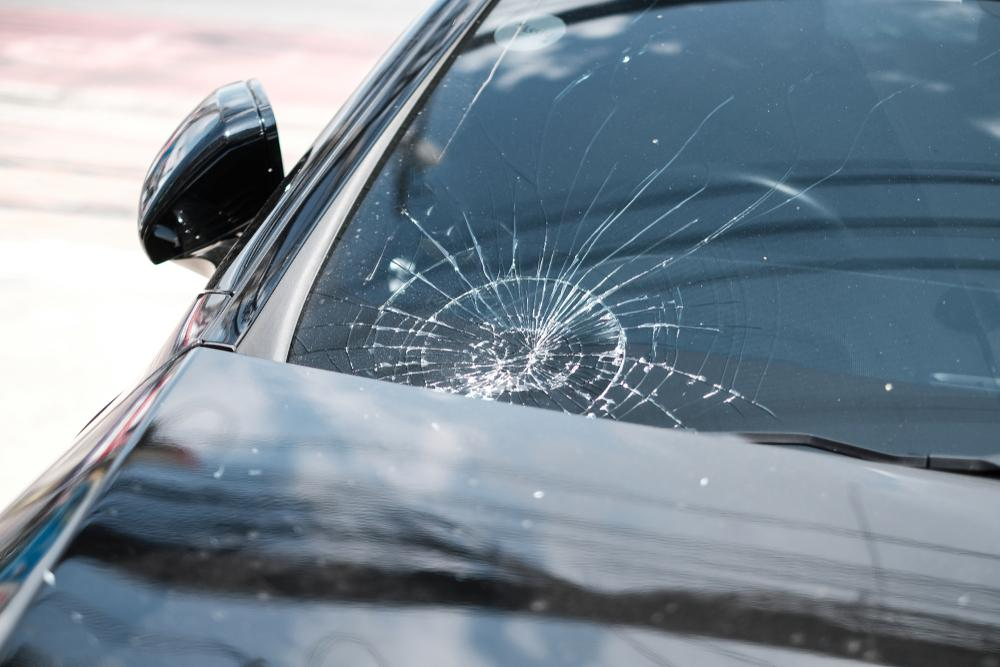glass shatter: (289, 0, 1000, 457)
